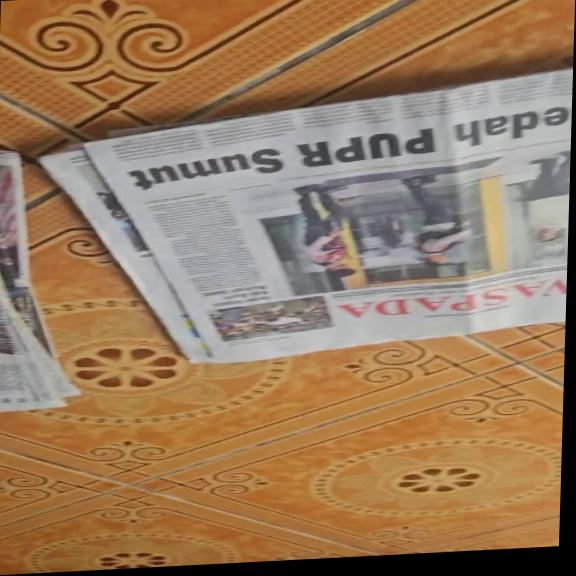Kertas: (38, 67, 568, 371)
